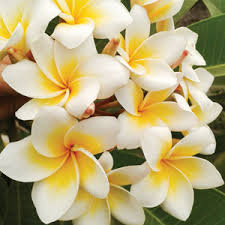frangipani: (1, 108, 123, 225)
